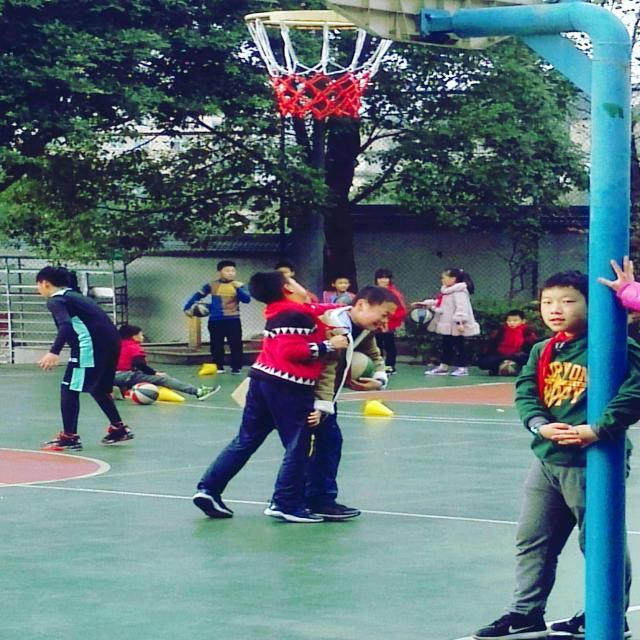basketball: (346, 350, 376, 390), (130, 382, 159, 406)
hoop: (245, 9, 386, 117)
